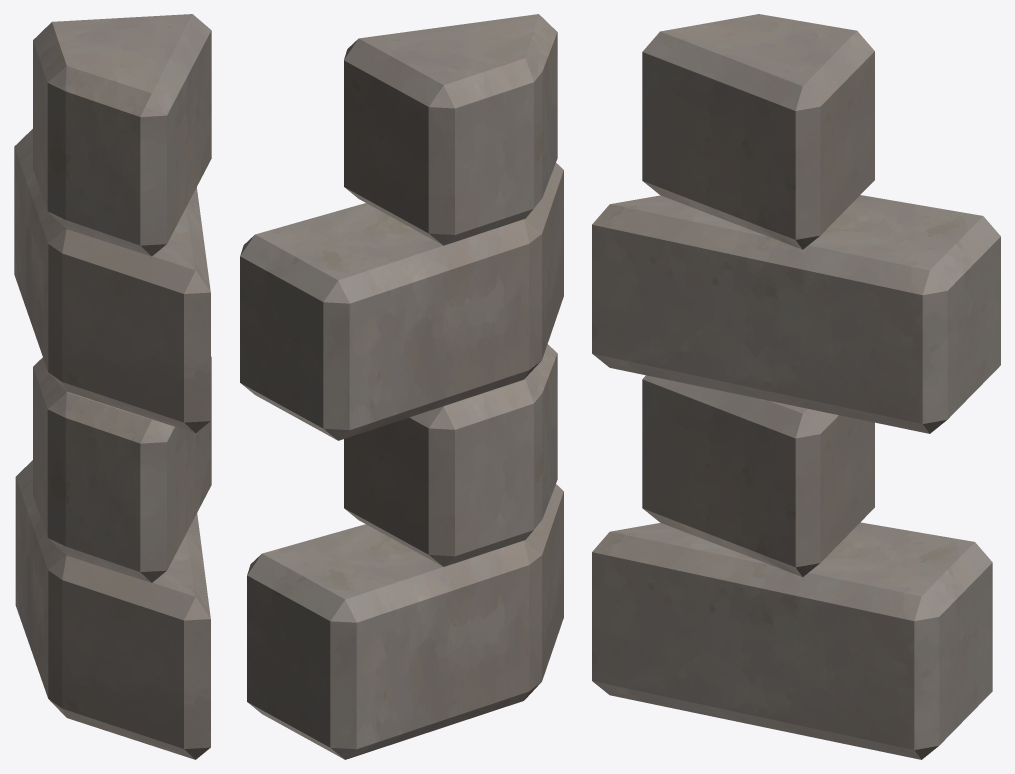
File: SM_Corner_Small_Tower_S.fbx
3 views of the same model, side by side, from view 1: azimuth 30°, elevation 25°; view 2: azimuth 150°, elevation 25°; view 3: azimuth 270°, elevation 25° (orthographic).
Visible parts, largest first — view 1: SM_Corner_Small_Tower_S_LOD0; view 2: SM_Corner_Small_Tower_S_LOD0; view 3: SM_Corner_Small_Tower_S_LOD0.
Boxes of the visible parts, x1,y1,x2,y2 form: SM_Corner_Small_Tower_S_LOD0: (14,14,211,759); SM_Corner_Small_Tower_S_LOD0: (240,14,563,759); SM_Corner_Small_Tower_S_LOD0: (592,14,1000,759).
Size of the model in its own units: 70.15 by 113 by 200.
1 material, 1 textured.
